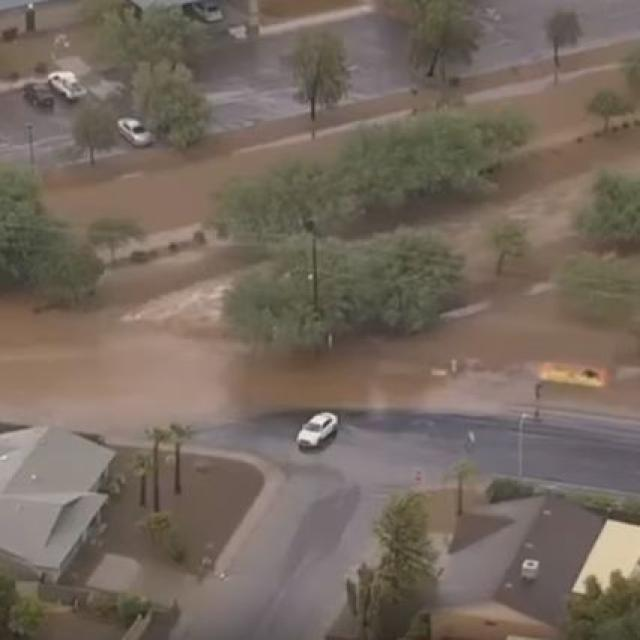flooded_areas: (0, 60, 635, 426)
